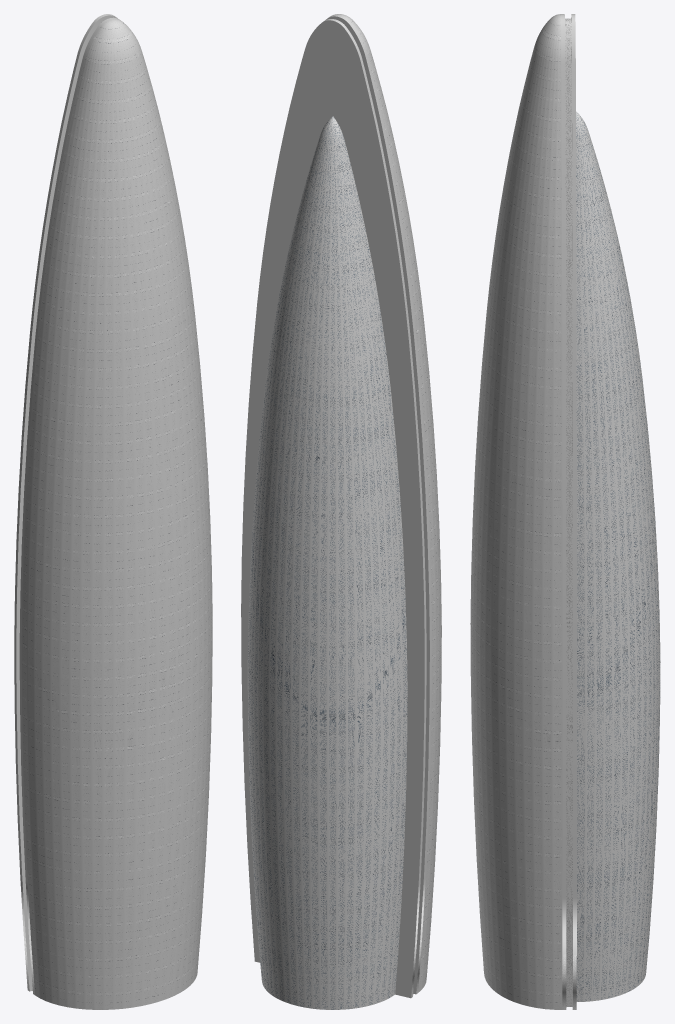
The model's file is TowerAlone.obj.
3 renders of one model, left to right at view 1: azimuth 30°, elevation 25°; view 2: azimuth 150°, elevation 25°; view 3: azimuth 270°, elevation 25°, orthographic.
Visible parts, largest first — view 1: Mesh1 Model; view 2: Mesh1 Model; view 3: Mesh1 Model.
Part boxes in pixels (<box>): Mesh1 Model: <box>14,14,212,1009</box>; Mesh1 Model: <box>241,14,441,1009</box>; Mesh1 Model: <box>470,14,660,1009</box>.
Size of the model in its own units: 1921 by 9660 by 1739.
Materials: 5 (2 with a texture image).
